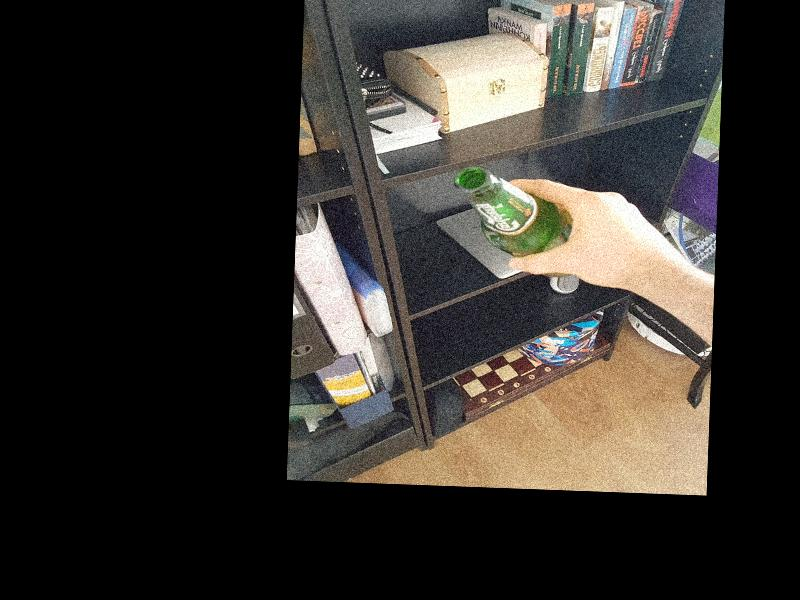Beer: (450, 166, 582, 278)
